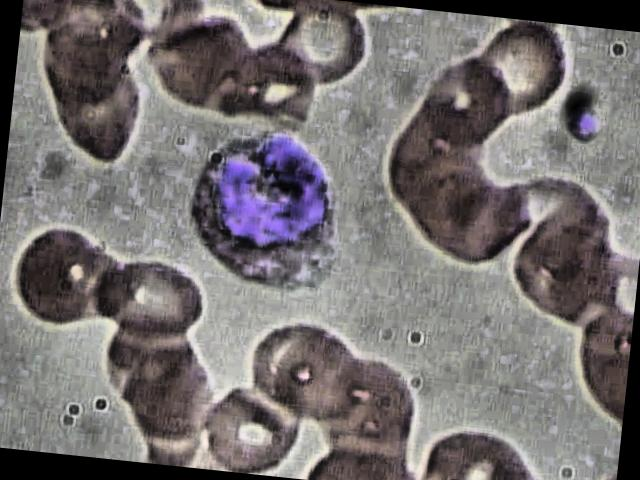Platelets: (558, 107, 600, 146)
RBC: (0, 216, 109, 334), (466, 16, 580, 120), (194, 378, 308, 479), (98, 250, 207, 345), (267, 0, 376, 90)
WBC: (166, 111, 360, 314)
